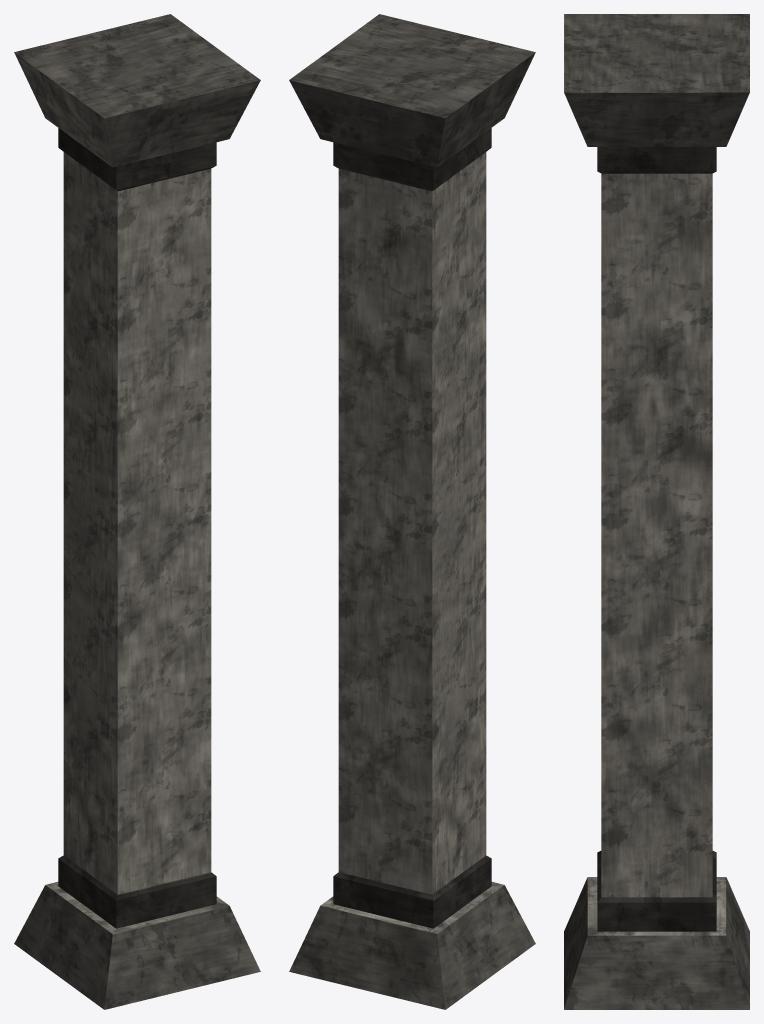
Rendered from PillarProp.fbx.
3 views of the same model, side by side, from view 1: azimuth 30°, elevation 25°; view 2: azimuth 150°, elevation 25°; view 3: azimuth 270°, elevation 25° (orthographic). The views are drawn at different scales.
Visible parts, largest first — view 1: Cube.001; view 2: Cube.001; view 3: Cube.001.
Part boxes in pixels (x1=…): Cube.001: x1=14, y1=14, x2=260, y2=1009; Cube.001: x1=289, y1=14, x2=535, y2=1009; Cube.001: x1=564, y1=14, x2=749, y2=1009.
Size of the model in its own units: 211 by 1147 by 211.
Materials: 1 (1 with a texture image).
